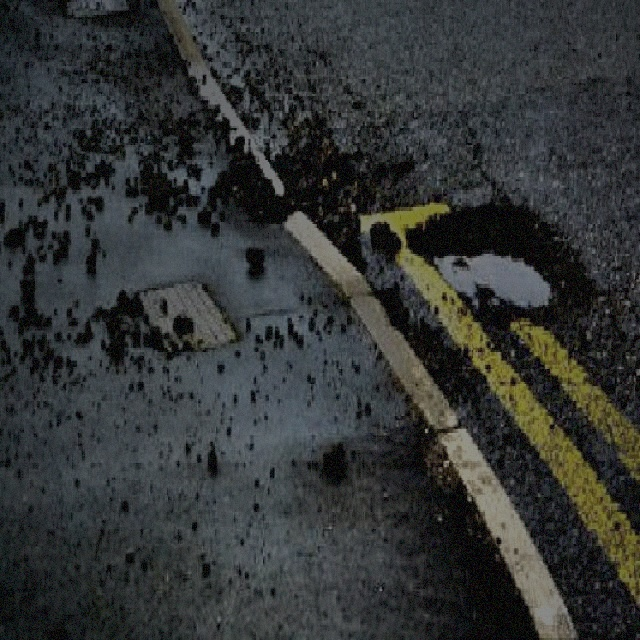pothole: (405, 198, 594, 326)
